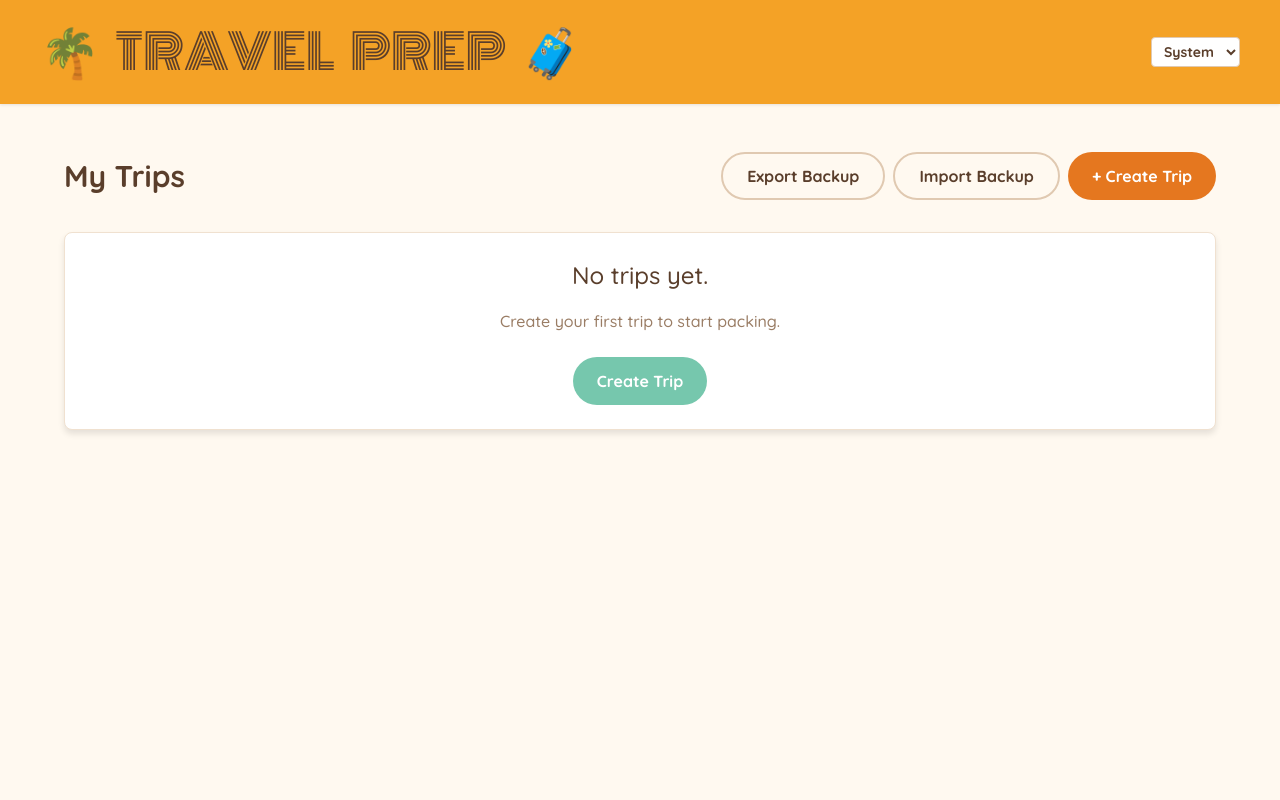
Test: App Integration Tests › allows deleting an item
Step 1. Click the link "+ Create Trip" → [1142, 176], box [1068,152,1216,200]
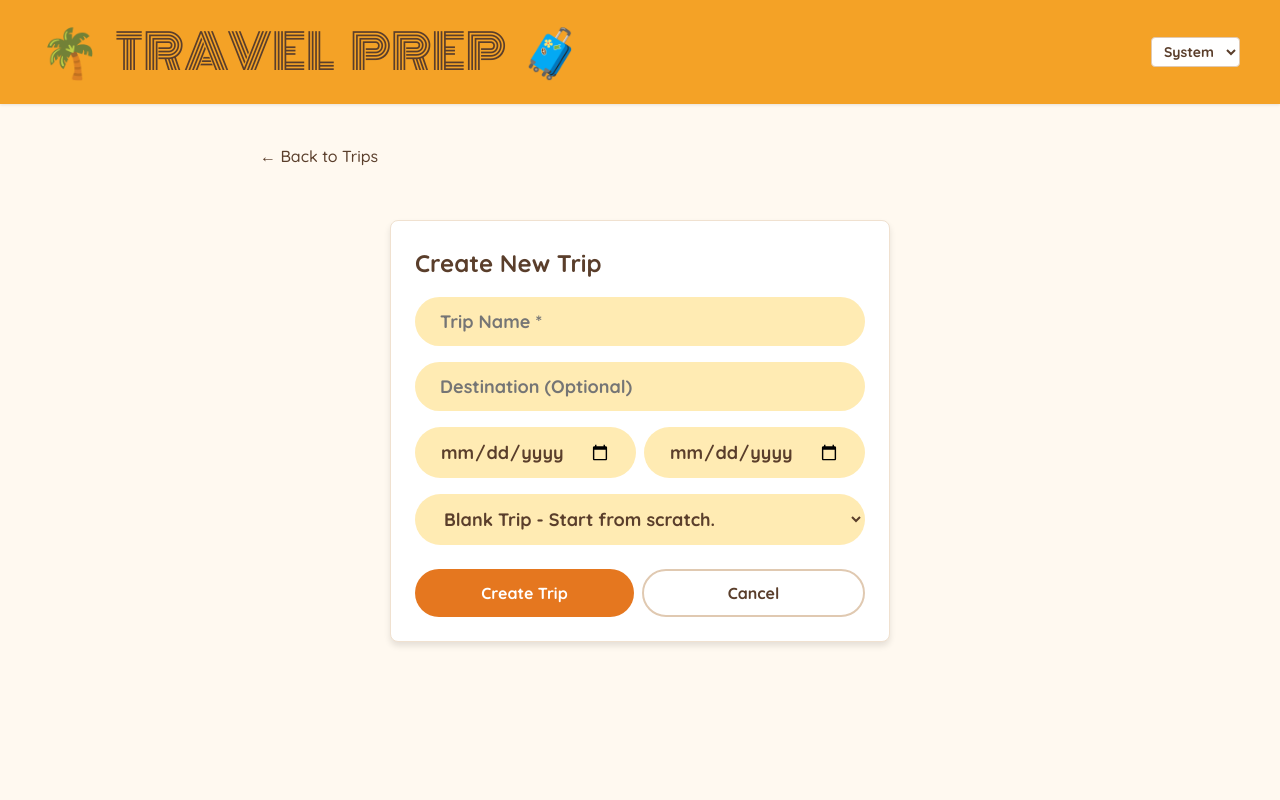
Step 2. Type "Goa Trip" into the field labelled "Trip Name" → [640, 322], box [415,297,865,346]
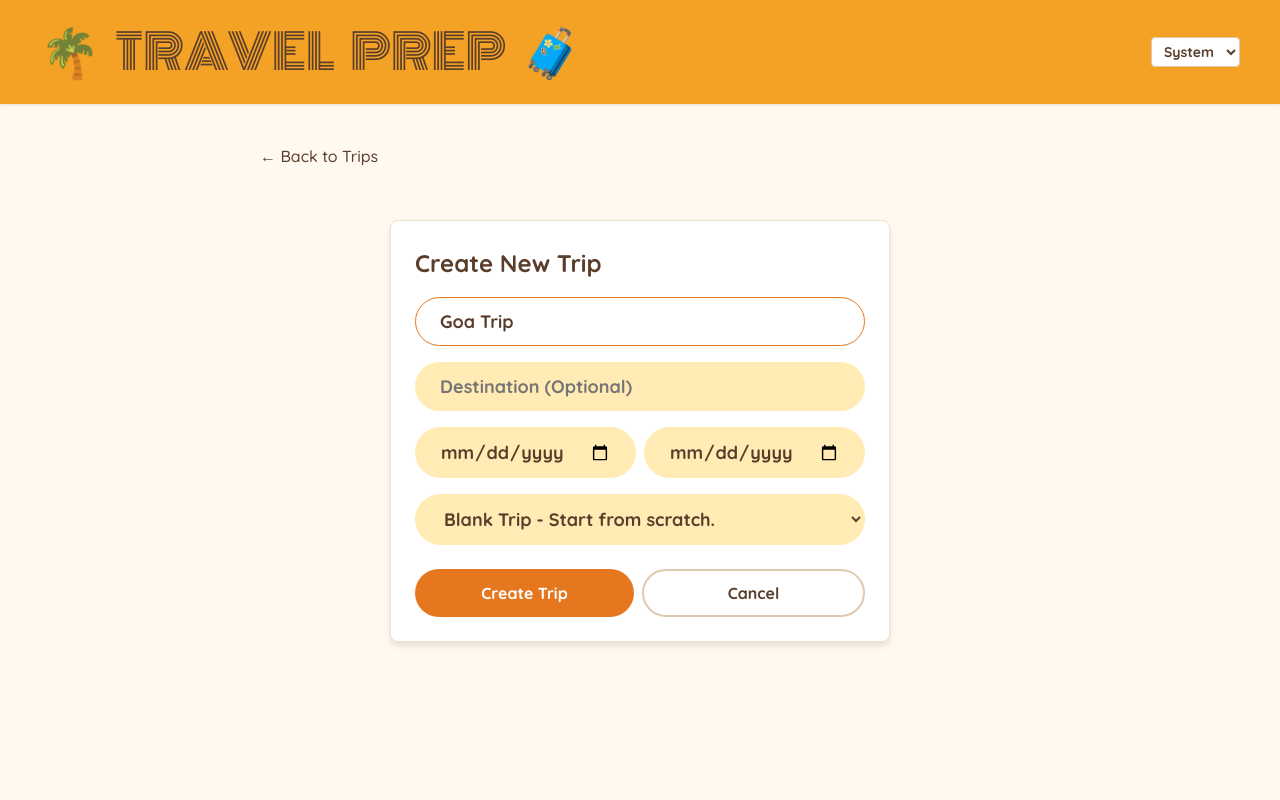
Step 3. Click the button "Create Trip" → [524, 593], box [415,569,634,617]
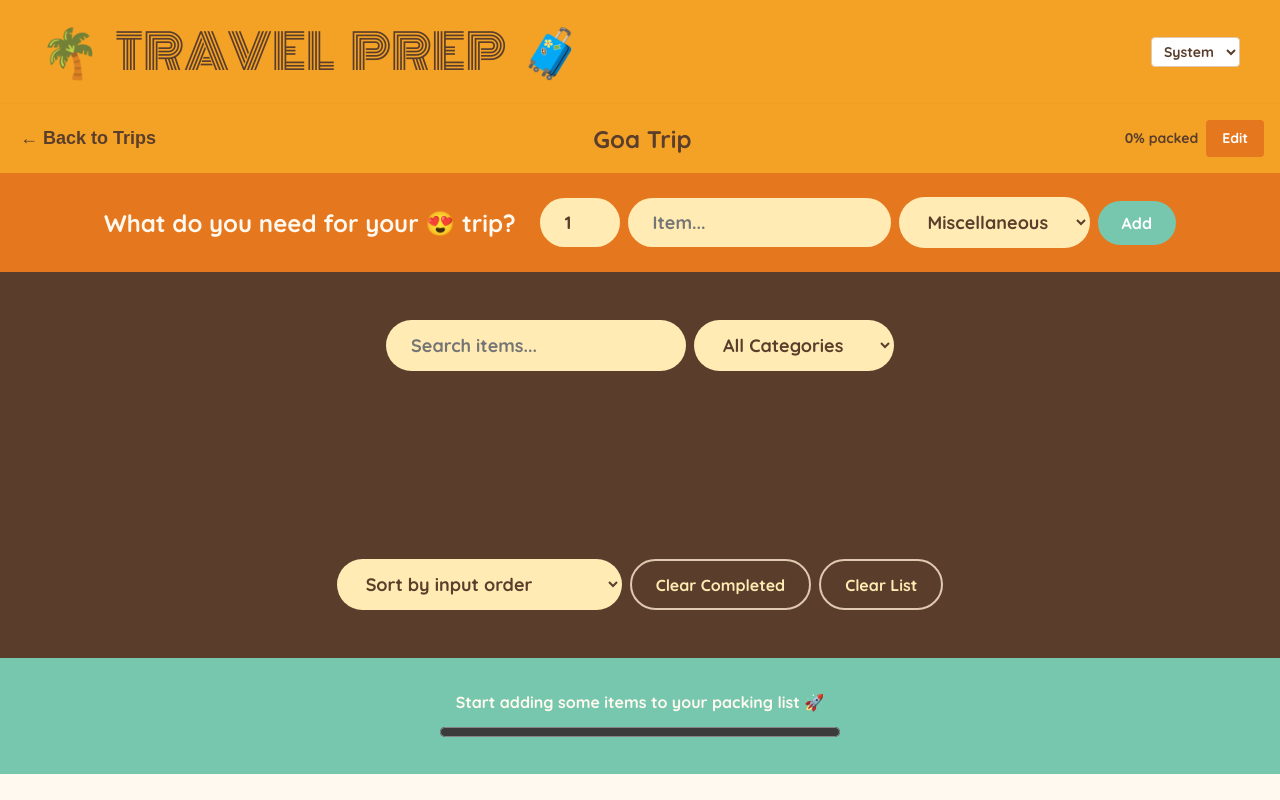
Step 4. Type "Passport" into the field with placeholder "Item..." → [759, 222], box [628,198,891,247]
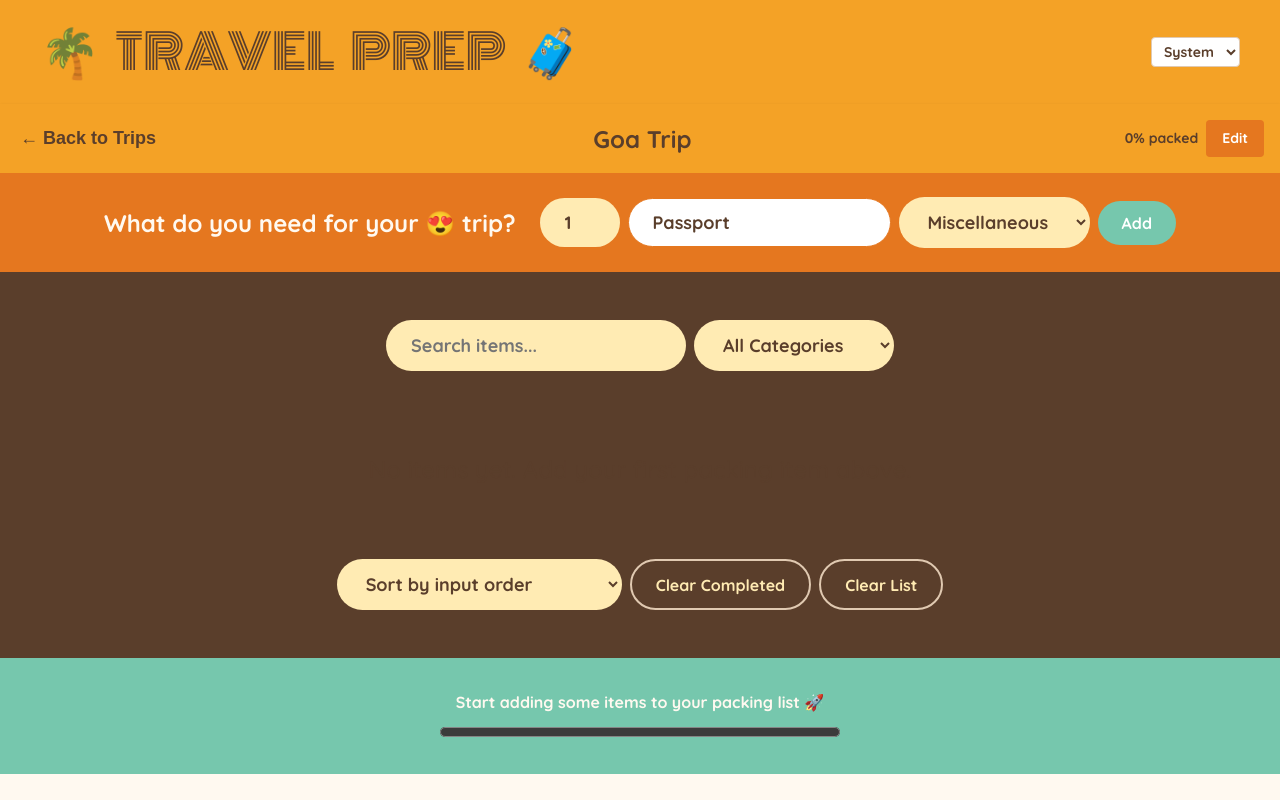
Step 5. Click the button "Add" → [1137, 222], box [1098,200,1176,244]
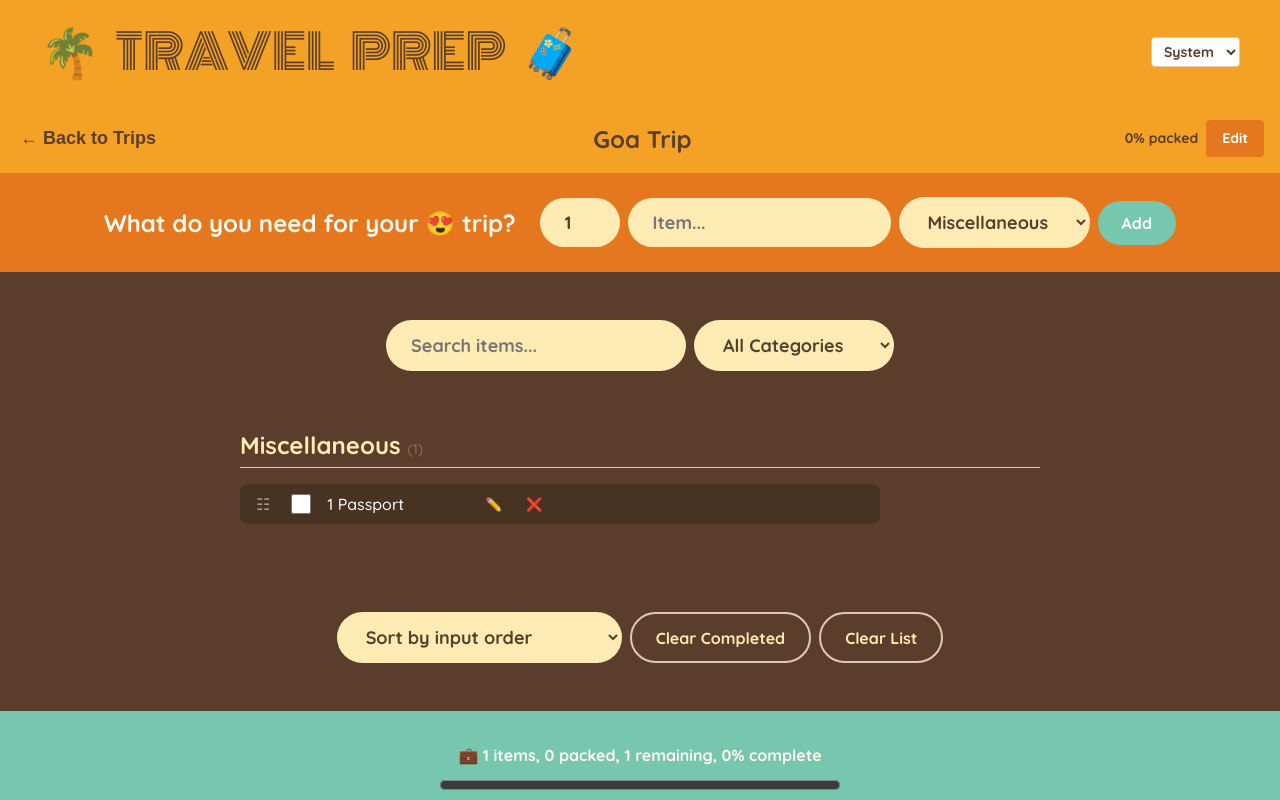
Step 6. Click the button named "delete passport" → [534, 504], box [522,492,547,516]
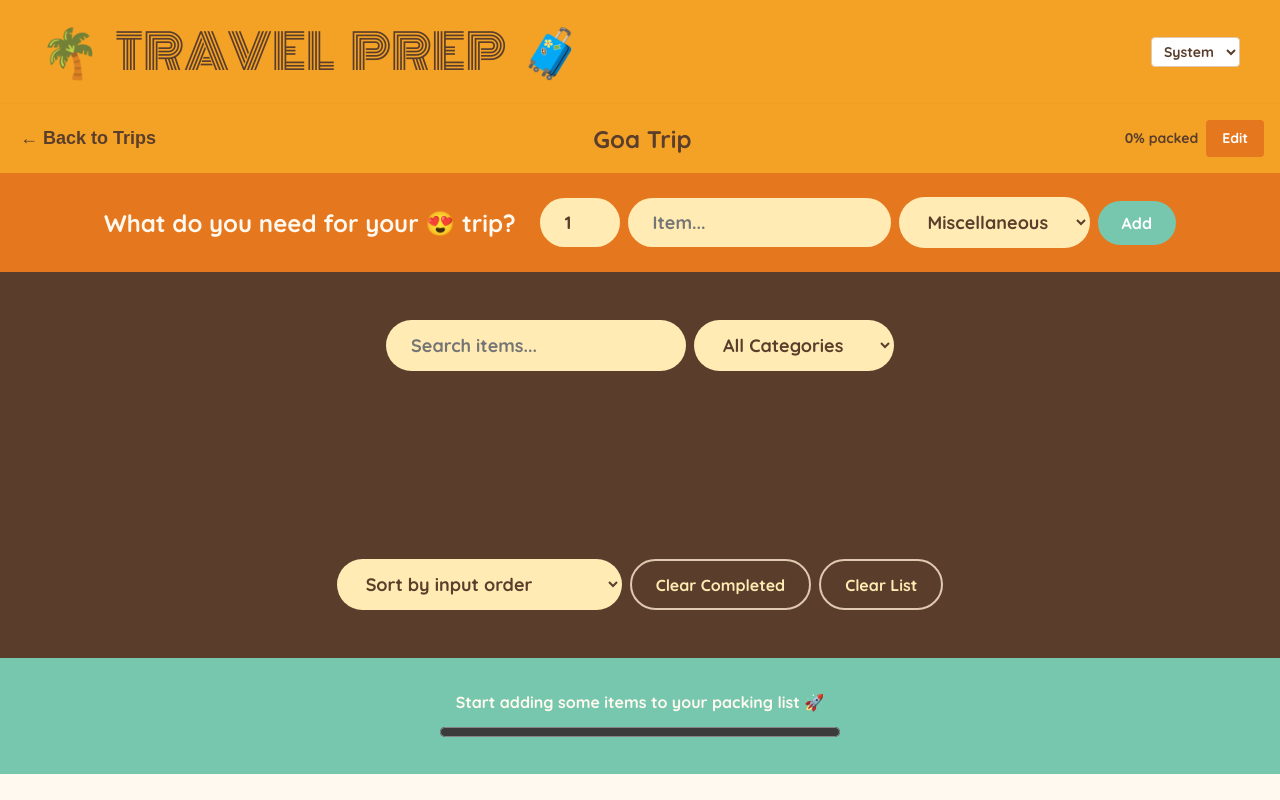
expect the text "1 Passport" is gone: met
